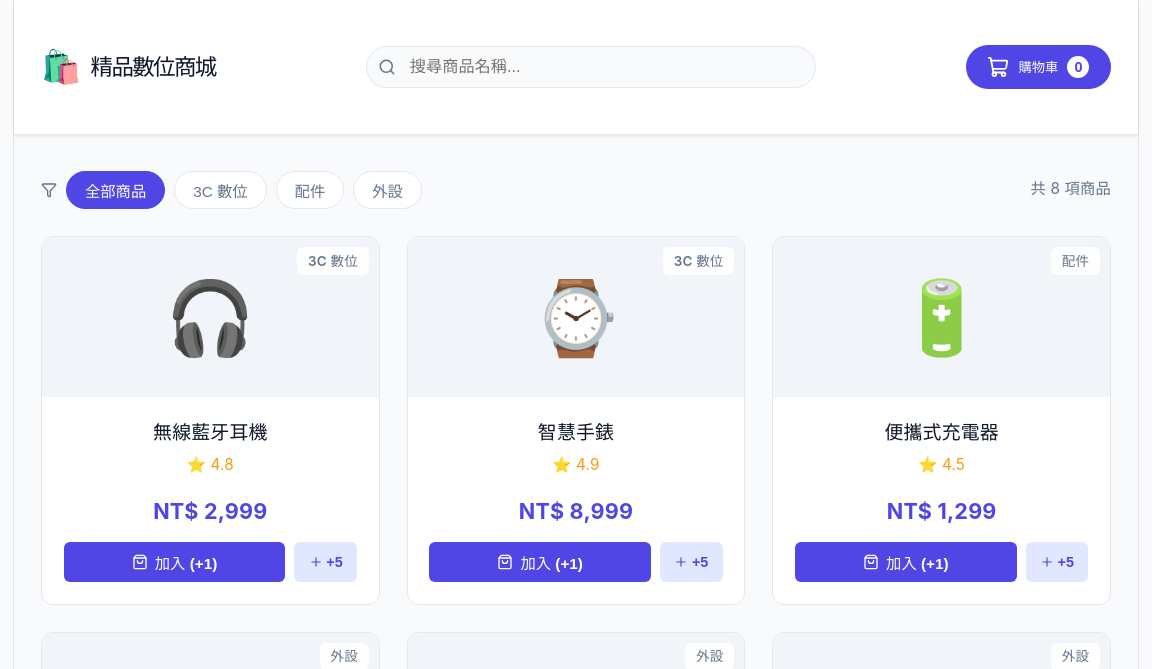
Test: Shopping Cart Application Component Integration Tests › Feature 4: filters products via search input box
Expected: the heading "無線藍牙耳機" is shown, [153, 421, 268, 444]
// Type "耳機" into search box
Type "耳機" into the field with placeholder "搜尋商品名稱..." at (591, 67), box [366, 46, 816, 88]
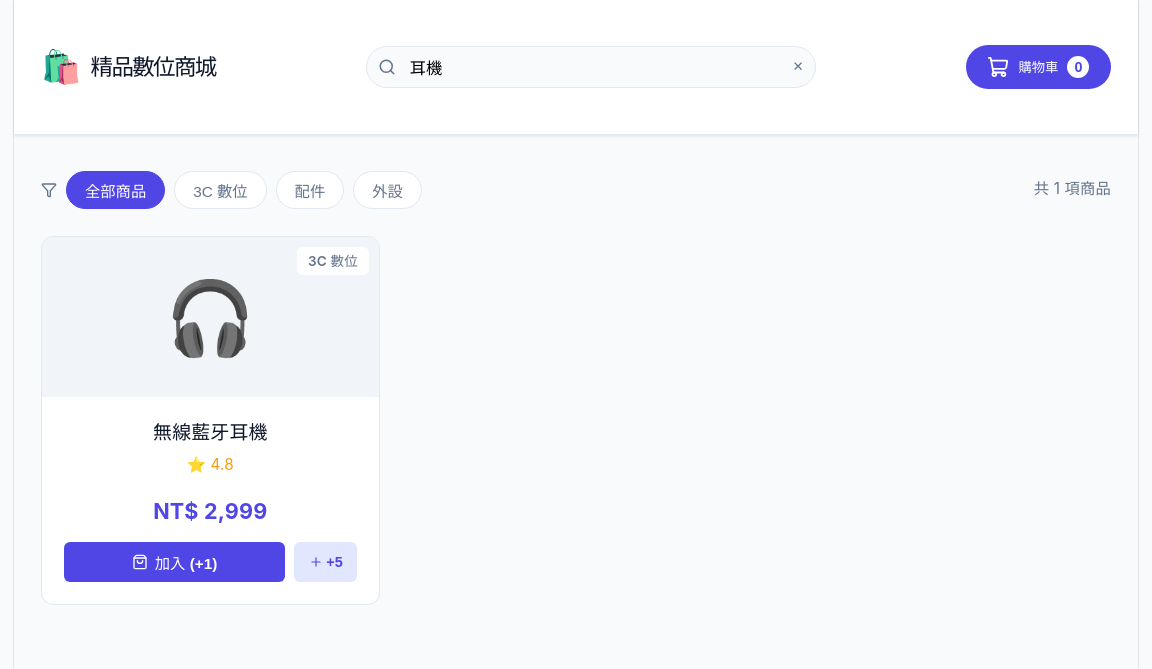
Expected: the heading "無線藍牙耳機" is shown, [153, 421, 268, 444]
Expected: the heading "智慧手錶" is gone
